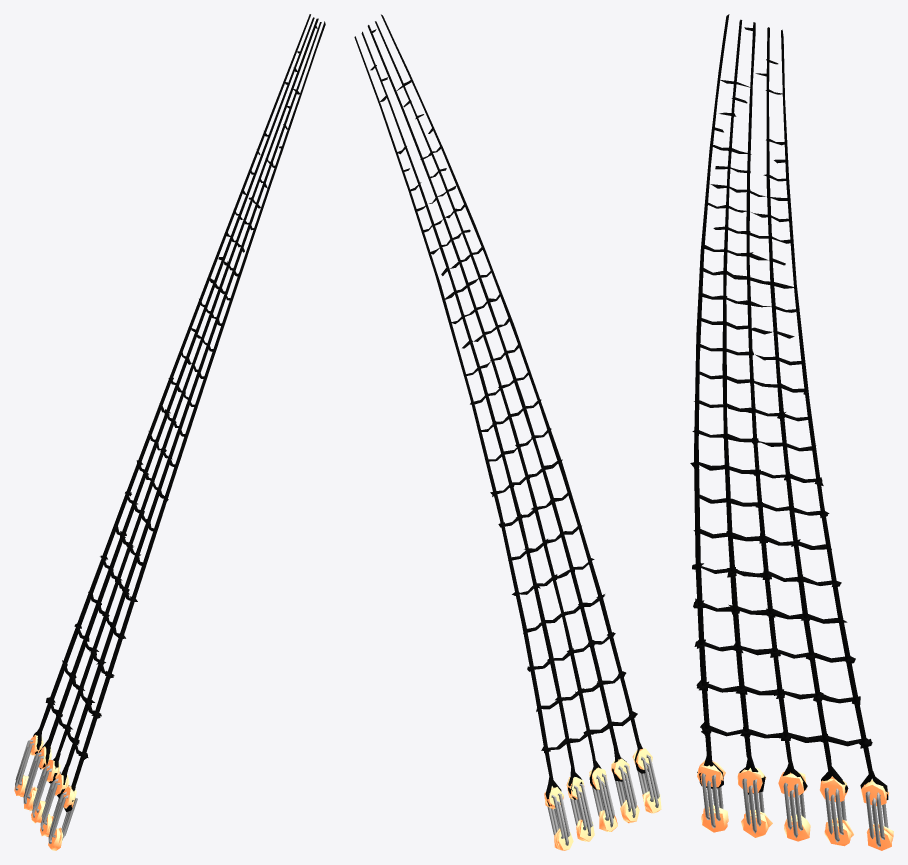
Rendered from SM_Shroud01.fbx.
3 views of the same model, side by side, from view 1: azimuth 30°, elevation 25°; view 2: azimuth 150°, elevation 25°; view 3: azimuth 270°, elevation 25° (orthographic). The views are drawn at different scales.
Parts seen in each view (by area): view 1: SM_Shroud01_LOD0; view 2: SM_Shroud01_LOD0; view 3: SM_Shroud01_LOD0.
Boxes of the visible parts, box(x1,y1,x2,y2) form: SM_Shroud01_LOD0: box(14, 14, 325, 850); SM_Shroud01_LOD0: box(354, 14, 661, 850); SM_Shroud01_LOD0: box(690, 14, 893, 850).
Bounding box in the file's own units: 443 × 207 × 1117.
